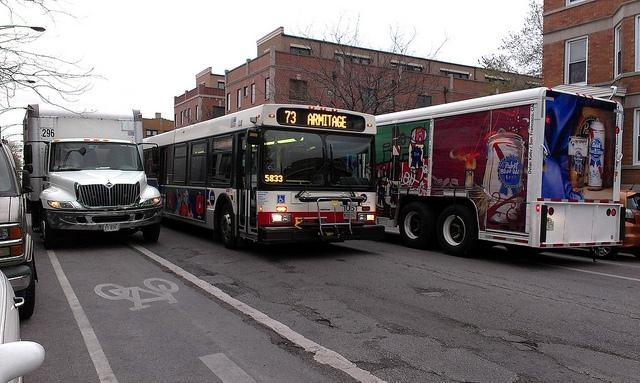bus: (374, 86, 623, 255), (143, 106, 383, 242)
car: (0, 140, 39, 320), (0, 270, 46, 378), (588, 188, 640, 262)
truck: (376, 86, 625, 255), (20, 105, 164, 253), (0, 140, 40, 321)
